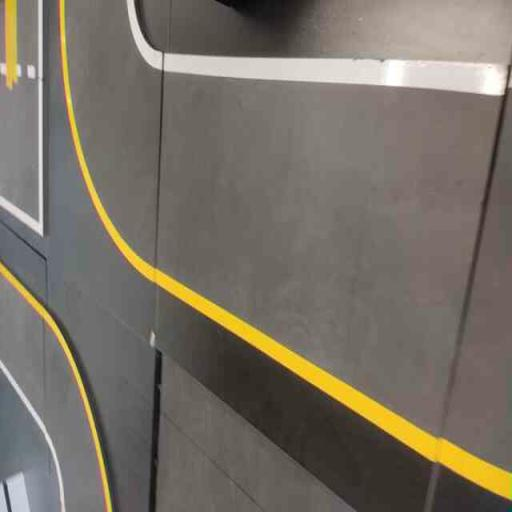left: (50, 19, 234, 336)
